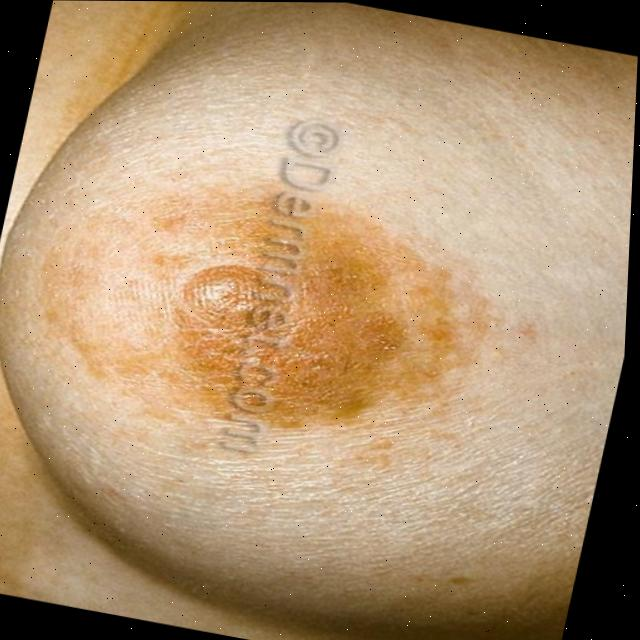Eczema: (175, 203, 462, 440)
